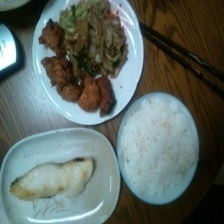rice: (119, 98, 198, 202)
